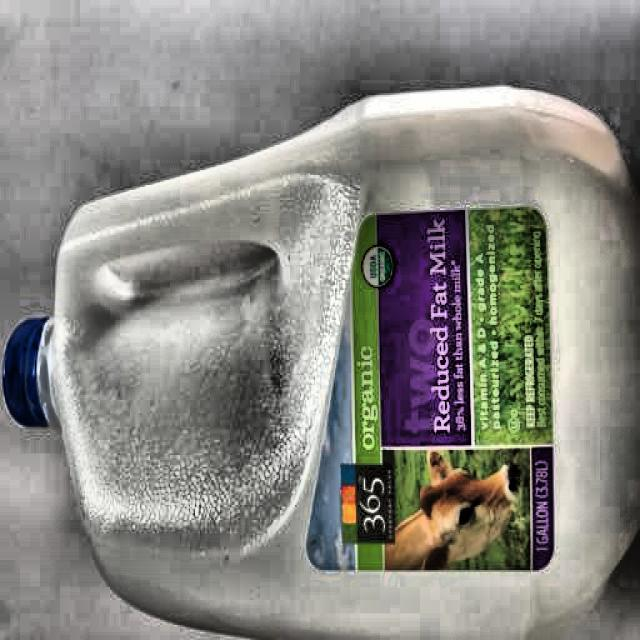plastic: (0, 156, 341, 640)
